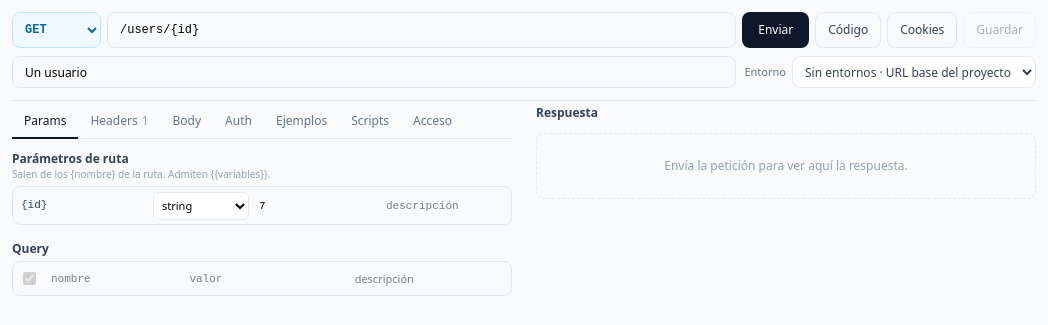
Test: parámetros, query y cabeceras › una cabecera con salto de línea se señala en su fila, y cuenta en la pestaña
Expected: the field showing "/users/{id}" is shown, [107, 12, 736, 48]
Click the button "Headers1".
click(119, 122)  # box [78, 105, 160, 139]
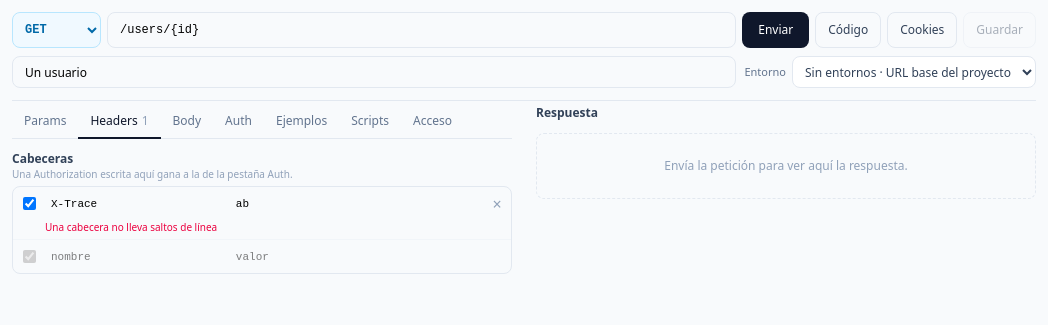
Expected: the text "Una cabecera no lleva saltos de línea" is shown, [45, 220, 217, 234]
Type "Accept" into the field with placeholder "nombre".
click(135, 256); type("Accept")  # box [45, 242, 226, 270]
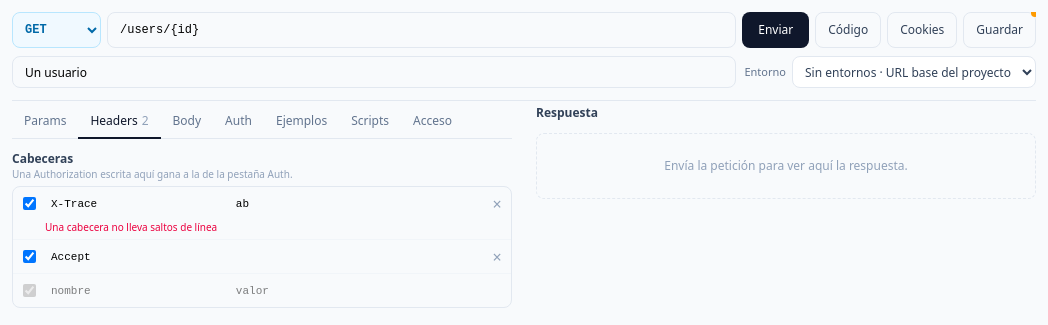
Expected: the button "Headers2" is shown, [78, 105, 160, 139]
